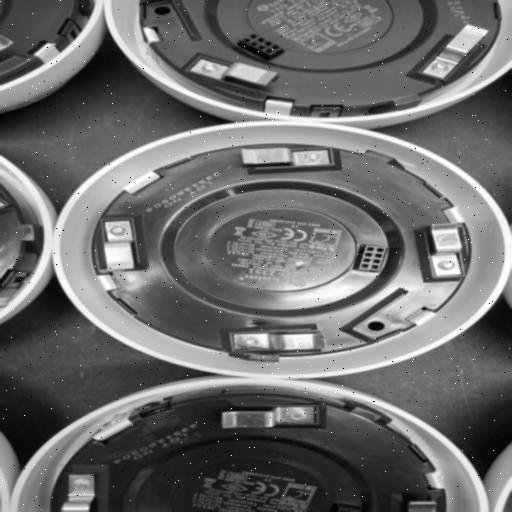konnektor: (232, 31, 295, 62), (348, 236, 393, 277)
yaysiz: (416, 22, 498, 82), (196, 398, 321, 435), (187, 55, 292, 99), (223, 319, 338, 358), (219, 142, 351, 172), (95, 214, 153, 278), (414, 215, 465, 281)
